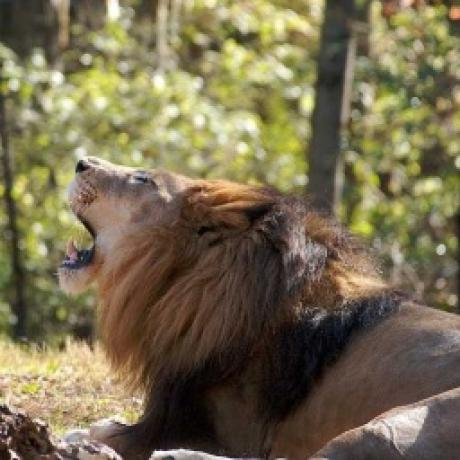Lion: (52, 152, 460, 460)
